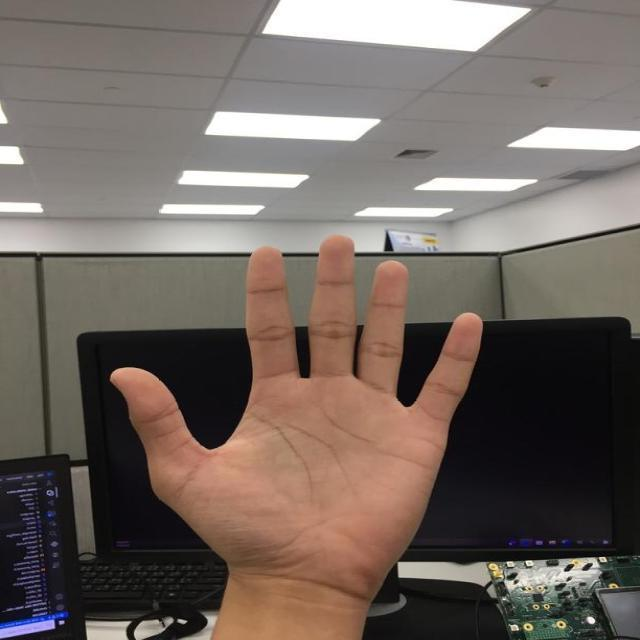hand: (105, 231, 487, 585)
